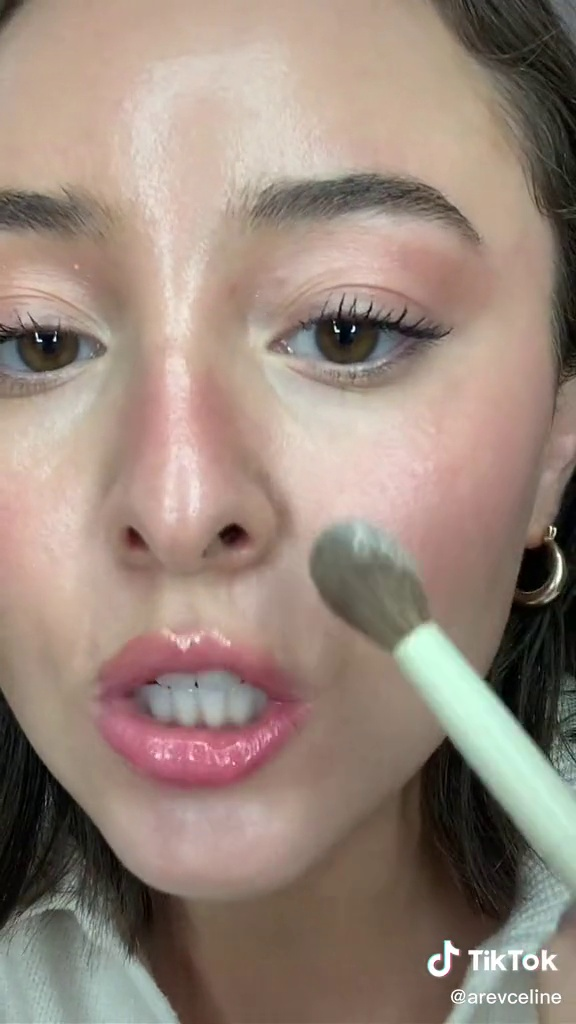train' :'yolo_data/train/images',: (307, 532, 575, 916)
